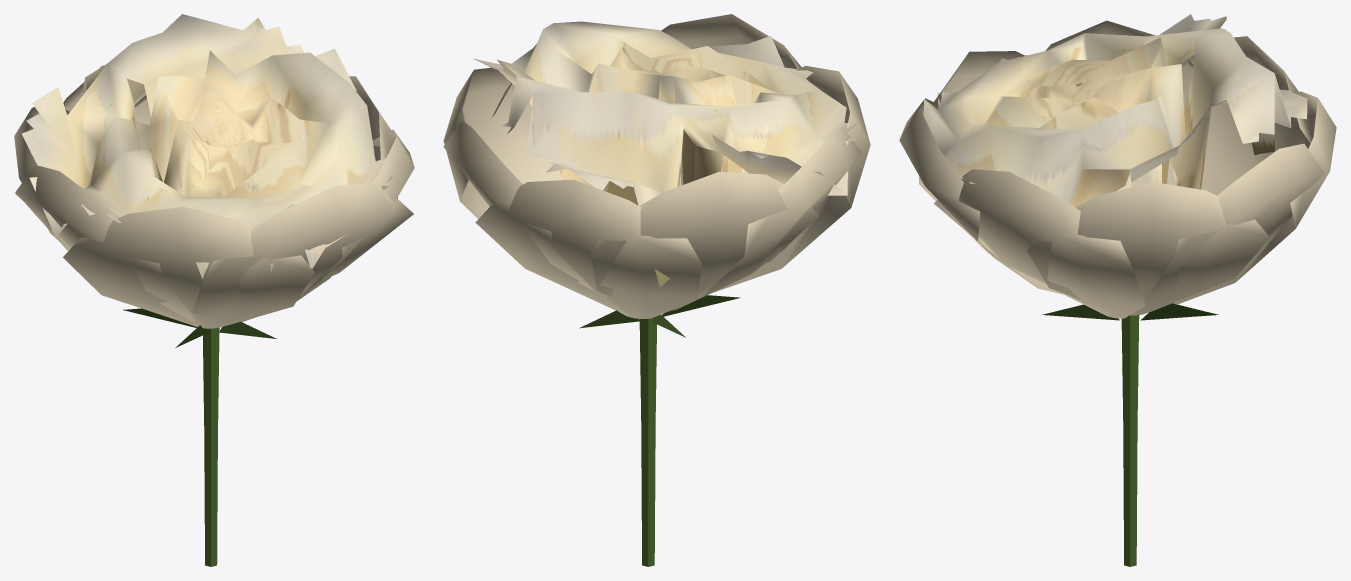
Rendered from r28-rose-bloom-hi-bc18a14a4fb8.glb.
3 renders of one model, left to right at view 1: azimuth 30°, elevation 25°; view 2: azimuth 150°, elevation 25°; view 3: azimuth 270°, elevation 25°, orthographic. The views are drawn at different scales.
Visible parts, largest first — view 1: Rose_actual_top_relief, Rose_short_stem; view 2: Rose_actual_top_relief, Rose_short_stem; view 3: Rose_actual_top_relief, Rose_short_stem.
Boxes of the visible parts, box(x1,y1,x2,y2) form: Rose_actual_top_relief: box(14, 14, 414, 328); Rose_short_stem: box(123, 308, 276, 566); Rose_actual_top_relief: box(443, 14, 870, 318); Rose_short_stem: box(579, 295, 740, 566); Rose_actual_top_relief: box(899, 14, 1336, 318); Rose_short_stem: box(1042, 303, 1218, 566).
Size of the model in its own units: 0.1625 by 0.219 by 0.1684.
Materials: 2 (1 with a texture image).
